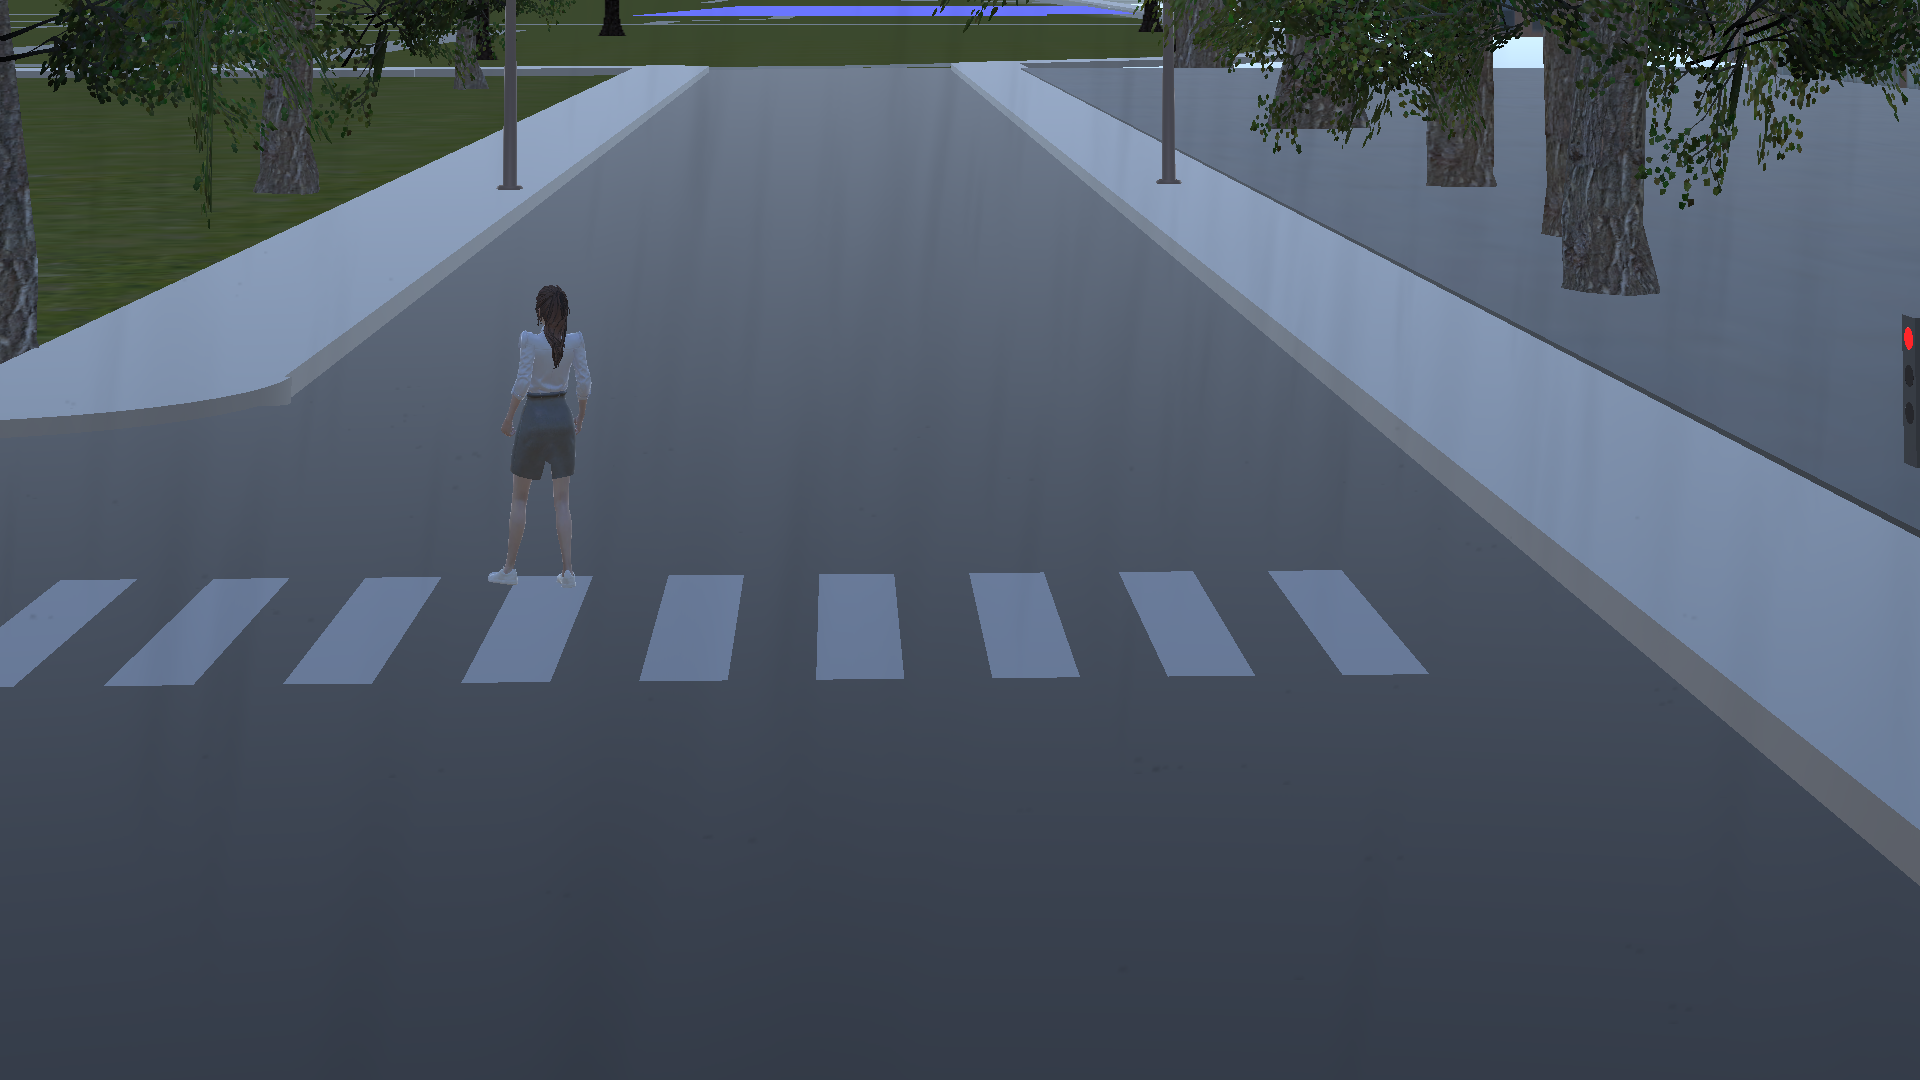pedestrian: (488, 275, 595, 599)
